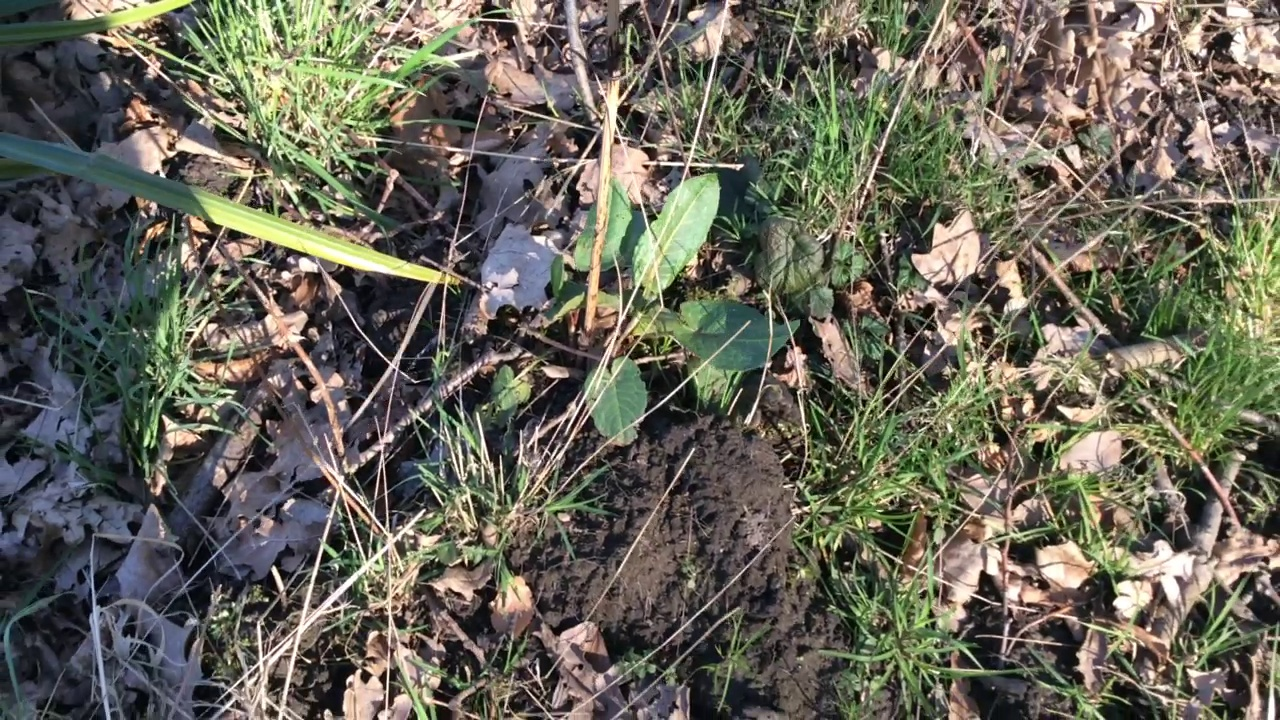rumex: (484, 173, 801, 445)
